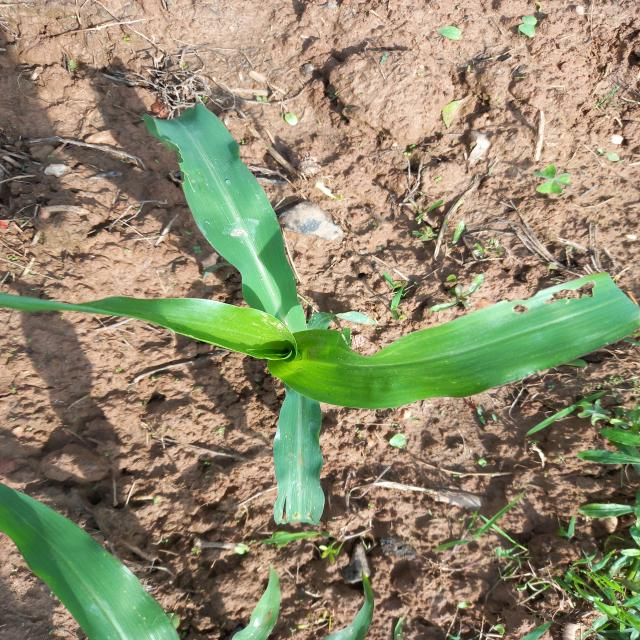maize: (115, 133, 610, 496), (0, 480, 220, 640)
weed: (548, 403, 640, 640), (330, 197, 476, 306), (500, 157, 582, 267)
